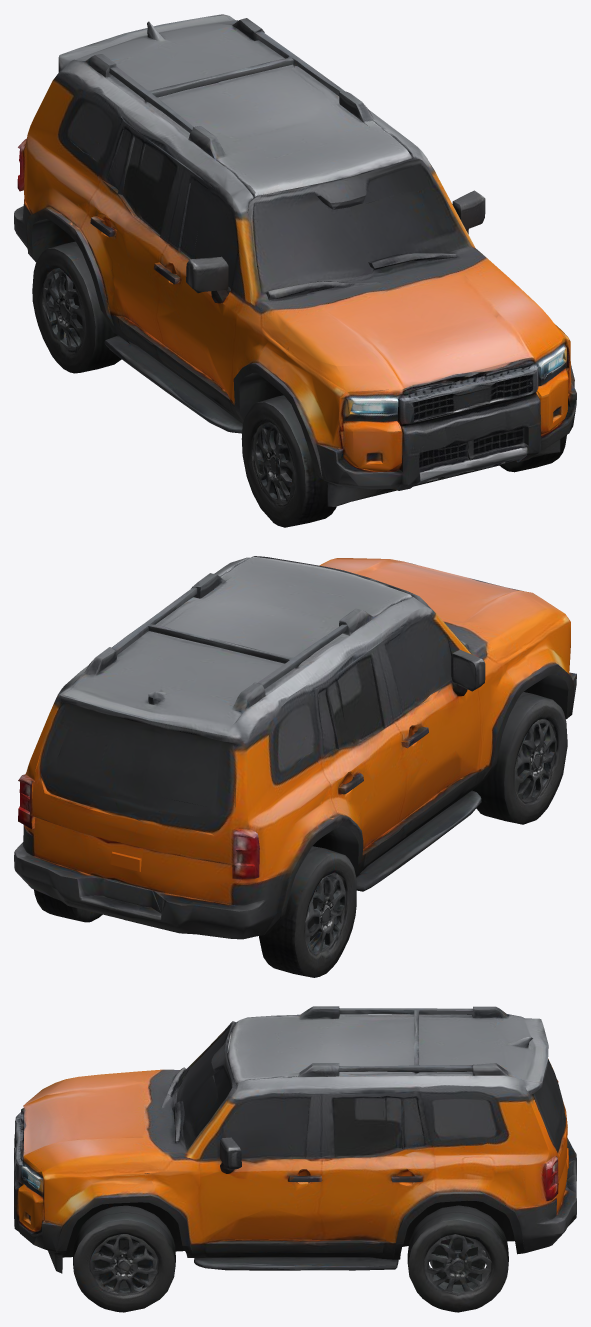
The model's file is carro_suv.glb.
3 renders of one model, top to bottom at view 1: azimuth 30°, elevation 25°; view 2: azimuth 150°, elevation 25°; view 3: azimuth 270°, elevation 25°, orthographic. The views are drawn at different scales.
Parts seen in each view (by area): view 1: tripo_node_4720decf-6d4a-4819-a1ac-fb288a771d52; view 2: tripo_node_4720decf-6d4a-4819-a1ac-fb288a771d52; view 3: tripo_node_4720decf-6d4a-4819-a1ac-fb288a771d52.
Part boxes in pixels (box(x1,y1,x2,y2)): tripo_node_4720decf-6d4a-4819-a1ac-fb288a771d52: box(14, 14, 576, 527); tripo_node_4720decf-6d4a-4819-a1ac-fb288a771d52: box(14, 556, 576, 977); tripo_node_4720decf-6d4a-4819-a1ac-fb288a771d52: box(14, 1006, 576, 1312).
Size of the model in its own units: 2.2 by 2.04 by 4.6.
Materials: 1 (1 with a texture image).
